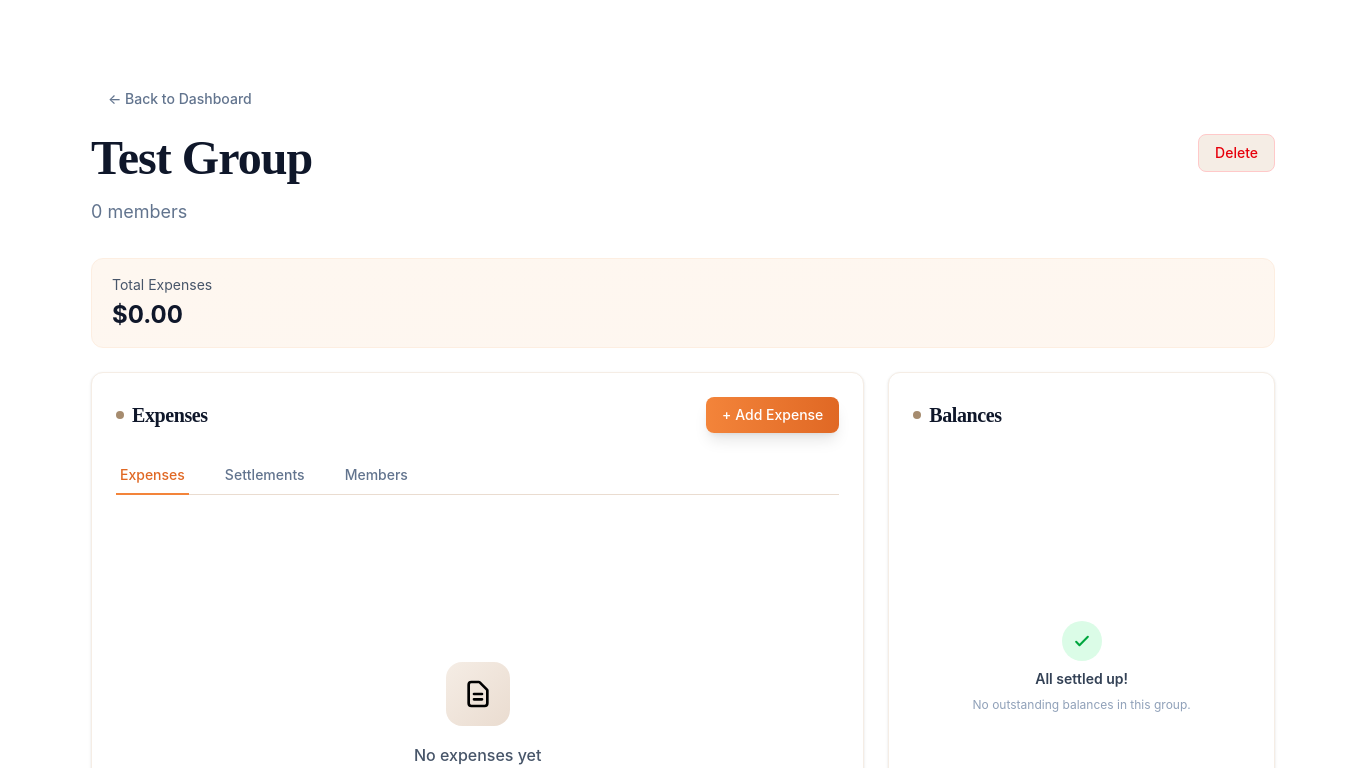
Scenario: GroupDetailPage › Successful Group Display › shows 'No members yet' when members array is empty
Click the tab "Members".
click(376, 476)  # box [341, 457, 412, 495]
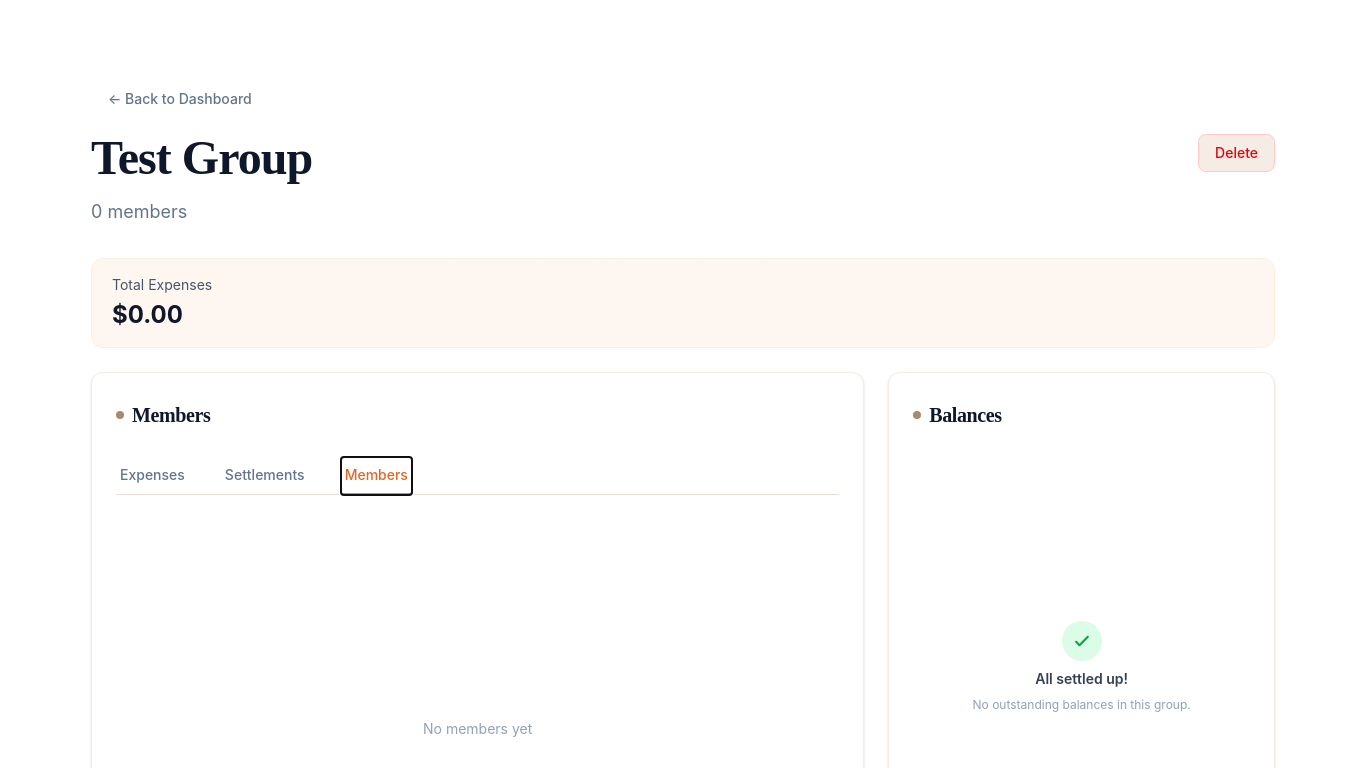
Result: the text "No members yet" is shown at [423, 719, 532, 739]
